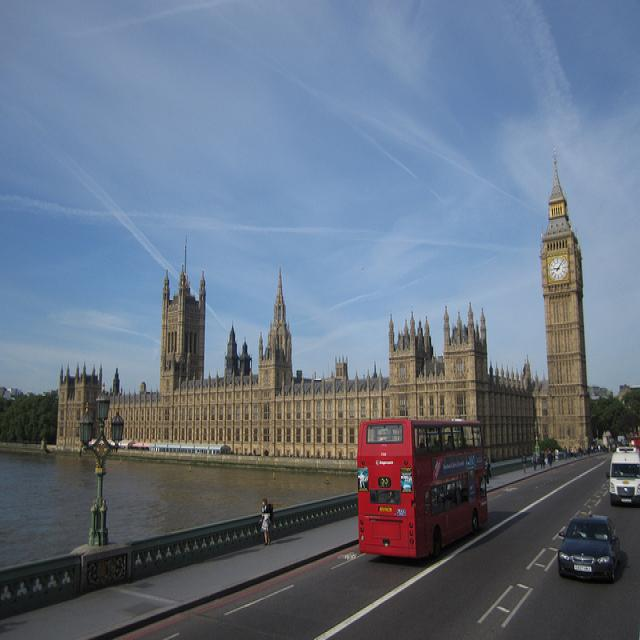Vehicle: (357, 419, 488, 561), (558, 512, 621, 583), (605, 447, 640, 506)
